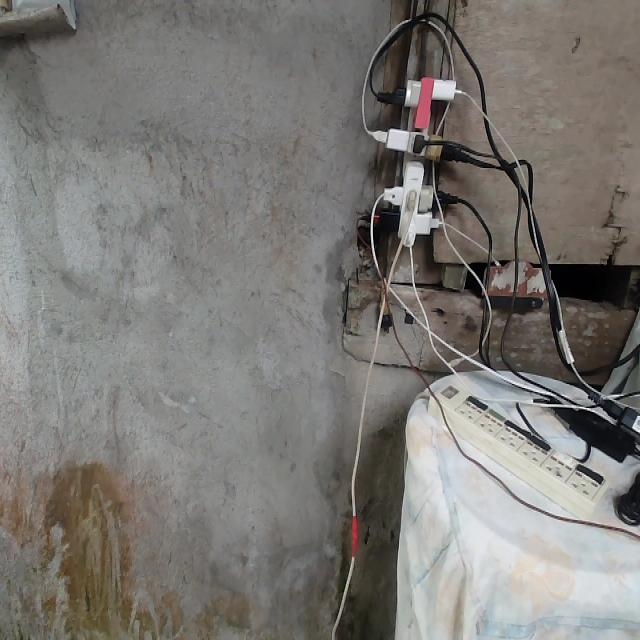-: (363, 75, 464, 248)
